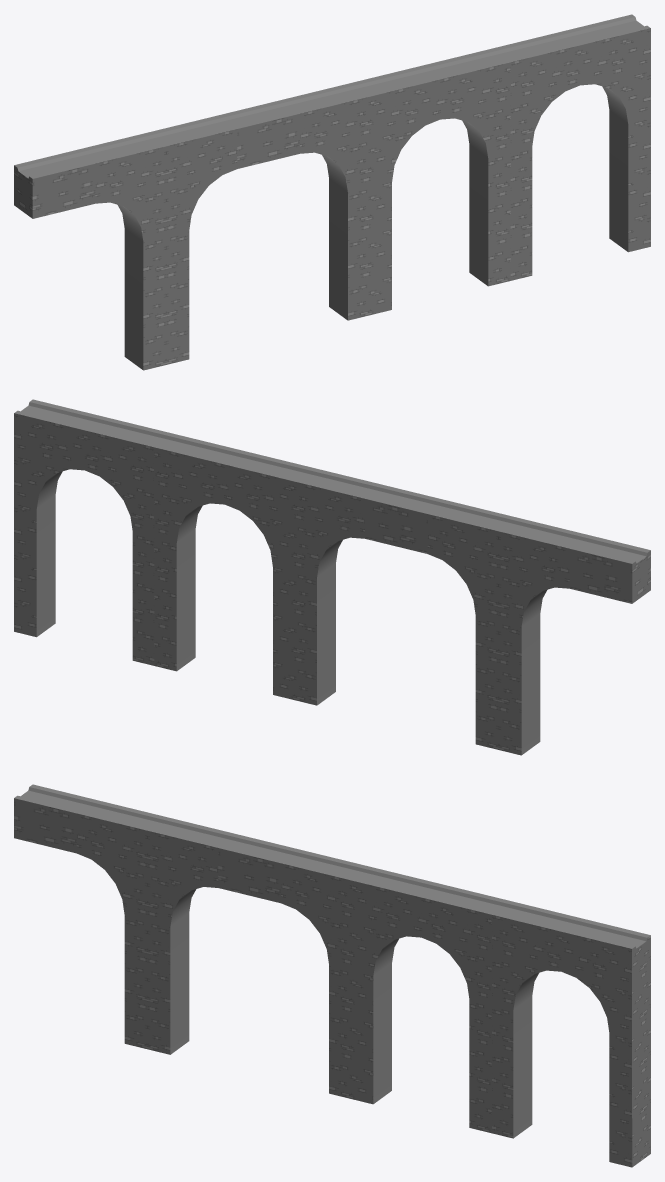
The model's file is aqueduct.gltf.
3 renders of one model, top to bottom at view 1: azimuth 30°, elevation 25°; view 2: azimuth 150°, elevation 25°; view 3: azimuth 330°, elevation 25°, orthographic.
Parts seen in each view (by area): view 1: aqueduct; view 2: aqueduct; view 3: aqueduct.
Boxes of the visible parts, x1,y1,x2,y2 form: aqueduct: (14, 14, 650, 370); aqueduct: (14, 399, 650, 755); aqueduct: (14, 784, 650, 1167).
Bounding box in the file's own units: 82.21 × 27.78 × 4.33.
Materials: 2 (1 with a texture image).
